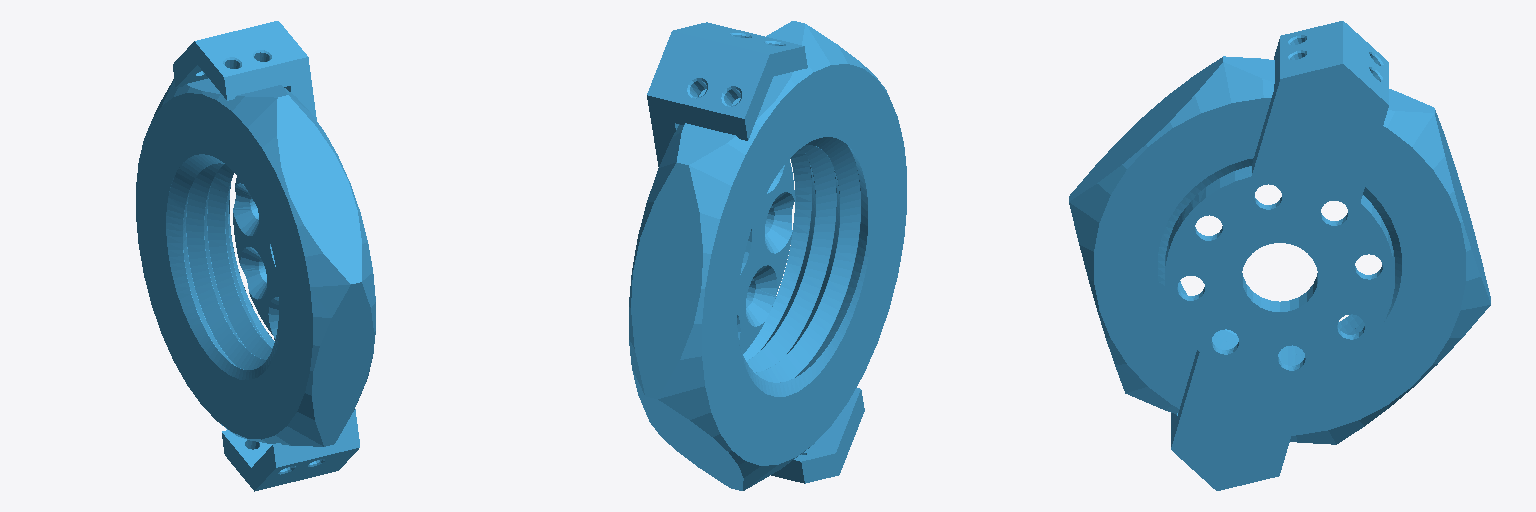
robot.urdf — panda_hebi:
<?xml version="1.0" encoding="utf-8" ?>
<robot name="panda_hebi">
	<!-- Panda link 0 -->
	<link name="panda_link0">
		<visual>
			<geometry>
				<mesh filename="franka/Franka_Link0_assy OBJ/Franka_Link0_assy.obj" />
			</geometry>
		</visual>
		<inertial>
			<origin rpy="0 0 0" xyz="0 0 0" />
			<mass value="2.9411" />
			<inertia ixx="0.00315" ixy="0.0" ixz="0.0" iyy="0.00388" iyz="0.0" izz="0.004285" />
		</inertial>
	</link>
	<!-- Joint 1 from link 0 to 1 -->
	<joint name="panda_joint1" type="revolute">
		<origin rpy="0 0 0" xyz="0 0 0.333" />
		<parent link="panda_link0" />
		<child link="panda_link1" />
		<axis xyz="0 0 1" />
		<limit effort="87" lower="-2.8973" upper="2.8973" velocity="2.1750" />
		<dynamics damping="1.0" />
	</joint>
	<!-- Panda link 1 -->
	<link name="panda_link1">
		<visual>
			<geometry>
				<mesh filename="franka/Franka_Link1_assy OBJ/Franka_Link1_assy.obj" />
			</geometry>
		</visual>
		<inertial>
			<origin rpy="0 0 0" xyz="0.003875 0.002081 -0.04762" />
			<mass value="4.970684" />
			<inertia ixx="0.70337" ixy="0" ixz="0" iyy="0.70661" iyz="0" izz="0.0091170" />
		</inertial>
	</link>
	<!-- Joint 2 from link 1 to 2 -->
	<joint name="panda_joint2" type="revolute">
		<origin rpy="-1.57079632679 0 0" xyz="0 0 0" />
		<parent link="panda_link1" />
		<child link="panda_link2" />
		<axis xyz="0 0 1" />
		<limit effort="87" lower="-1.7628" upper="1.7628" velocity="2.1750" />
		<dynamics damping="1.0" />
	</joint>
	<!-- Panda link 2 -->
	<link name="panda_link2">
		<visual>
			<geometry>
				<mesh filename="franka/Franka_Link2_assy OBJ/Franka_Link2_assy.obj" />
				<!--<mesh filename="assets/panda/link2.stl" />-->
			</geometry>
		</visual>
		<inertial>
			<origin rpy="0 0 0" xyz="-0.003141 -0.02872 0.003495" />
			<mass value="0.646926" />
			<inertia ixx="0.0079620" ixy="0.0" ixz="0.0" iyy="0.02811" iyz="0.0" izz="0.025995" />
		</inertial>
	</link>
	<!-- Joint 3 from link 2 to 3 -->
	<joint name="panda_joint3" type="revolute">
		<origin rpy="1.57079632679 0 0" xyz="0 -0.316 0" />
		<parent link="panda_link2" />
		<child link="panda_link3" />
		<axis xyz="0 0 1" />
		<limit effort="87" lower="-2.8973" upper="2.8973" velocity="2.1750" />
		<dynamics damping="1.0" />
	</joint>
	<!-- Panda link 3 -->
	<link name="panda_link3">
		<visual>
			<geometry>
				<mesh filename="franka/Franka_Link3_assy OBJ/Franka_Link3_assy.obj" />
				<!--<mesh filename="assets/panda/link3.stl" />-->
			</geometry>
		</visual>
		<inertial>
			<origin rpy="0 0 0" xyz="2.7518e-2 3.9252e-2 -6.6502e-2" />
			<mass value="3.228604" />
			<inertia ixx="0.037242" ixy="0.0" ixz="0.0" iyy="0.036155" iyz="0.0" izz="0.01083" />
		</inertial>
	</link>
	<!-- Joint 4 from link 3 to 4 -->
	<joint name="panda_joint4" type="revolute">
		<origin rpy="1.57079632679 0 0" xyz="0.0825 0 0" />
		<parent link="panda_link3" />
		<child link="panda_link4" />
		<axis xyz="0 0 1" />
		<limit effort="87" lower="-3.0718" upper="-0.0698" velocity="2.1750" />
		<dynamics damping="1.0" />
	</joint>
	<!-- Panda link 4 -->
	<link name="panda_link4">
		<visual>
			<geometry>
				<mesh filename="franka/Franka_Link4_assy OBJ/Franka_Link4_assy.obj" />
				<!--<mesh filename="assets/panda/link4.stl" />-->
			</geometry>
		</visual>
		<inertial>
			<origin rpy="0 0 0" xyz="-5.317e-2 1.04419e-1 2.7454e-2" />
			<mass value="3.587895" />
			<inertia ixx="2.5853e-2" ixy="0.0" ixz="0.0" iyy="1.9552e-2" iyz="0.0" izz="8.627e-3" />
		</inertial>
	</link>
	<!-- Joint 5 from link 4 to 5 -->
	<joint name="panda_joint5" type="revolute">
		<origin rpy="-1.57079632679 0 0" xyz="-0.0825 0.384 0" />
		<parent link="panda_link4" />
		<child link="panda_link5" />
		<axis xyz="0 0 1" />
		<limit effort="12" lower="-2.8973" upper="2.8973" velocity="2.6100" />
		<dynamics damping="1.0" />
	</joint>
	<!-- Panda link 5 -->
	<link name="panda_link5">
		<visual>
			<geometry>
				<mesh filename="franka/Franka_Link5_assy OBJ/Franka_Link5_assy.obj" />
				<!--<mesh filename="assets/panda/link5.stl" />-->
			</geometry>
		</visual>
		<inertial>
			<origin rpy="0 0 0" xyz="-1.1953e-2 4.1065e-2 -3.8437e-2" />
			<mass value="1.225946" />
			<inertia ixx="3.5549e-2" ixy="0.0" ixz="0.0" iyy="2.9474e-2" iyz="0.0" izz="8.627e-3" />
		</inertial>
	</link>
	<!-- Joint 6 from link 5 to 6 -->
	<joint name="panda_joint6" type="revolute">
		<origin rpy="1.57079632679 0 0" xyz="0 0 0" />
		<parent link="panda_link5" />
		<child link="panda_link6" />
		<axis xyz="0 0 1" />
		<limit effort="12" lower="-0.0175" upper="3.7525" velocity="2.6100" />
		<dynamics damping="1.0" />
	</joint>
	<!-- Panda link 6 -->
	<link name="panda_link6">
		<visual>
			<geometry>
				<mesh filename="franka/Franka_Link6_assy OBJ/Franka_Link6_assy.obj" />
				<!--<mesh filename="assets/panda/link6.stl" />-->
			</geometry>
		</visual>
		<inertial>
			<origin rpy="0 0 0" xyz="6.0149e-2 -1.4117e-2 -1.0517e-2" />
			<mass value="1.666555" />
			<inertia ixx="1.964e-3" ixy="0.0" ixz="0.0" iyy="4.354e-3" iyz="0.0" izz="5.433e-3" />
		</inertial>
	</link>
	<!-- Joint 7 from link 6 to 7 -->
	<joint name="panda_joint7" type="revolute">
		<origin rpy="1.57079632679 0 0" xyz="0.088 0 0" />
		<parent link="panda_link6" />
		<child link="panda_link7" />
		<axis xyz="0 0 1" />
		<limit effort="12" lower="-2.8973" upper="2.8973" velocity="2.6100" />
		<dynamics damping="1.0" />
	</joint>
	<!-- Panda link 7 -->
	<link name="panda_link7">
		<visual>
			<origin rpy="0 0 0" xyz="0 0 0" />
			<geometry>
				<mesh filename="franka/Franka_Link7_assy OBJ/Franka_Link7_assy.obj" />
			</geometry>
		</visual>
		<inertial>
			<origin rpy="0 0 0" xyz="1.0517e-2 -4.252e-3 6.1597e-2" />
			<mass value="7.35522e-01" />
			<inertia ixx="1.2516e-2" ixy="0.0" ixz="0.0" iyy="1.0027e-2" iyz="0.0" izz="4.815e-3" />
		</inertial>
	</link>
	<!-- Fixed joint from link 7 to hand -->
	<joint name="panda_joint8" type="fixed">
		<origin rpy="0 0 0" xyz="0 0 0.107" />
		<parent link="panda_link7" />
		<child link="hebi" />
		<axis xyz="0 0 1" />
	</joint>
	<!--Hebi-->
	<link name="hebi">
		<visual>
			<origin rpy="0 0 0" xyz="0 0 0" />
			<geometry>
				<mesh filename="../hebi/Hebi_X_ATI_gamma.obj" />
			</geometry>
		</visual>
		<inertial>
			<origin rpy="0 0 0" xyz="-0.01 0 0.03" />
			<mass value="0.73"/>
			<inertia ixx="0.001" ixy="0.0" ixz="0.0" iyy="0.0025" iyz="0.0" izz="0.0017" />
		</inertial>
	</link>
	<!-- Revolute joint from Hebi to nut -->
	<joint name="panda_joint9" type="revolute">
		<origin rpy="0 0 -2.3562" xyz="0 0 0" />
		<parent link="hebi" />
		<child link="nut" />
		<axis xyz="0 0 1" />
	</joint>
	<!--Nut-->
	<link name="nut">
		<visual>
			<origin rpy="0 0 0" xyz="0 0 0.09615" />
			<geometry>
				<mesh filename="../boltnut/nut_demo.obj" />
			</geometry>
		</visual>
		<collision>
			<origin rpy="0 0 0" xyz="0 0 0.09615" />
			<geometry>
				<mesh filename="../boltnut/nut_demo.obj" />
			</geometry>
		</collision>
		<inertial>
			<origin rpy="0 0 0" xyz="0 0 0" />
			<mass value="0.383"/>
      		<inertia ixx="0.001915" ixy="0.0" ixz="0.0" iyy="0.0047875" iyz="0.0" izz="0.0032555" />
		</inertial>
	</link>
</robot>

--- Render facts (derived) ---
3 views of the same robot in one strip: view 1: azimuth 30°, elevation 25°; view 2: azimuth 150°, elevation 25°; view 3: azimuth 270°, elevation 25° (orthographic).
Model panda_hebi with 10 links and 9 joints (8 revolute, 1 fixed), rooted at panda_link0, posed joints at zero except 1 at the middle of their limits (panda_joint4 = -1.57).
Visible links, largest first — view 1: nut; view 2: nut; view 3: nut.
Link boxes in pixels (x1,y1,x2,y2): nut: [136, 21, 375, 491]; nut: [629, 21, 906, 490]; nut: [1069, 21, 1490, 490].
Size in the robot's own frame: 0.02 by 0.0825 by 0.0922 metres.
1 mesh visuals loaded from 10 distinct referenced files (1 OBJ); not drawn: 9 (reference not matched to a file when rendering).